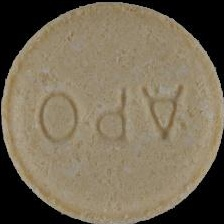54868-6329: (0, 0, 224, 224)
